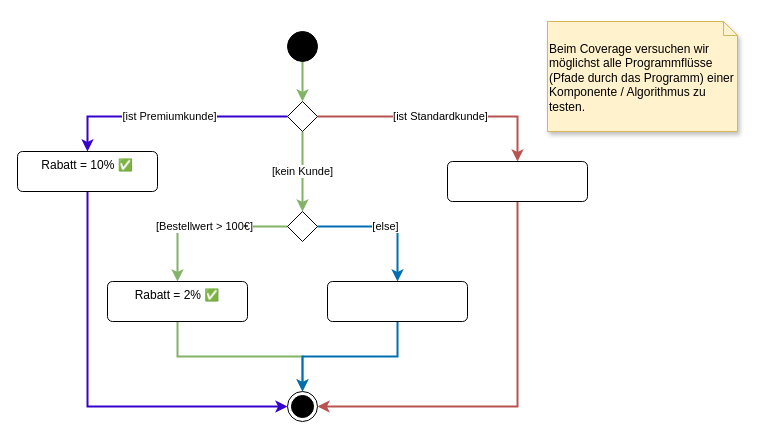
Image size: 761x439. Some labels were removed from this diagram. The centre of each missing label's shape, as x and y in pixels:
"kein Rabatt ✅" goes at [397,301].
"Rabatt = 5% ✅" goes at [517,181].
